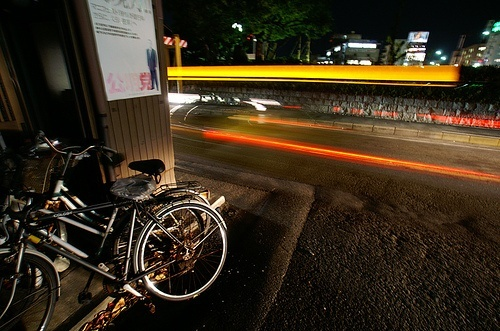bicycle: (1, 178, 235, 331), (8, 134, 226, 297)
